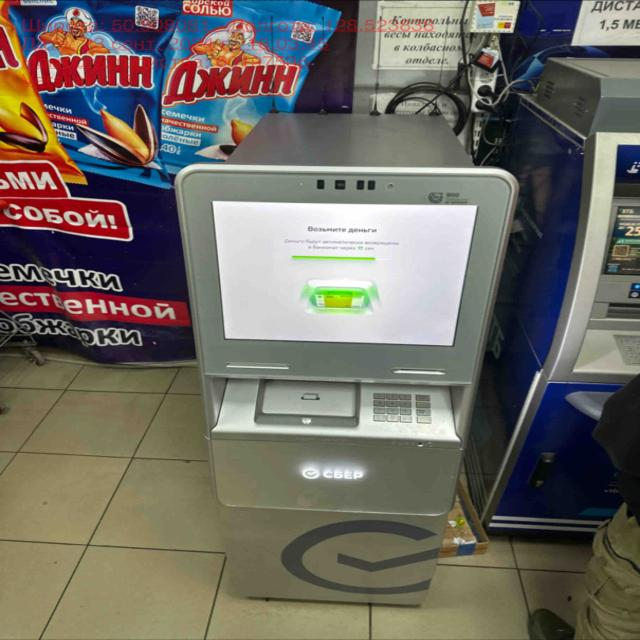bank: (176, 108, 514, 608)
